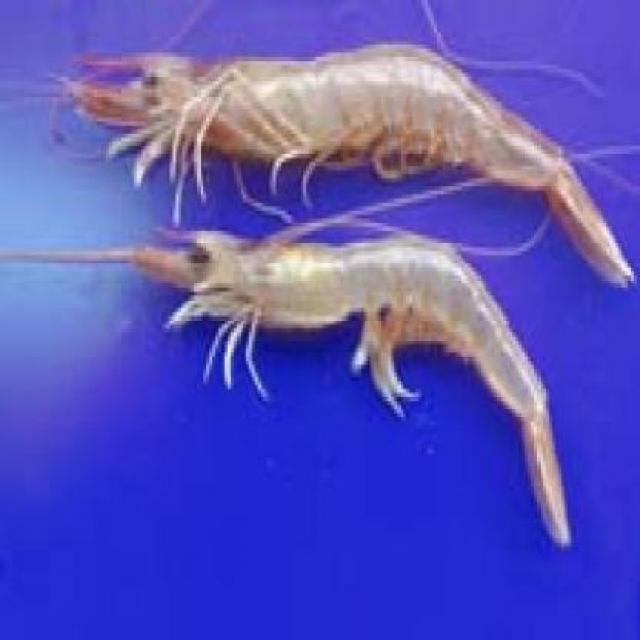shrimp: (46, 26, 640, 296), (115, 219, 577, 547)
